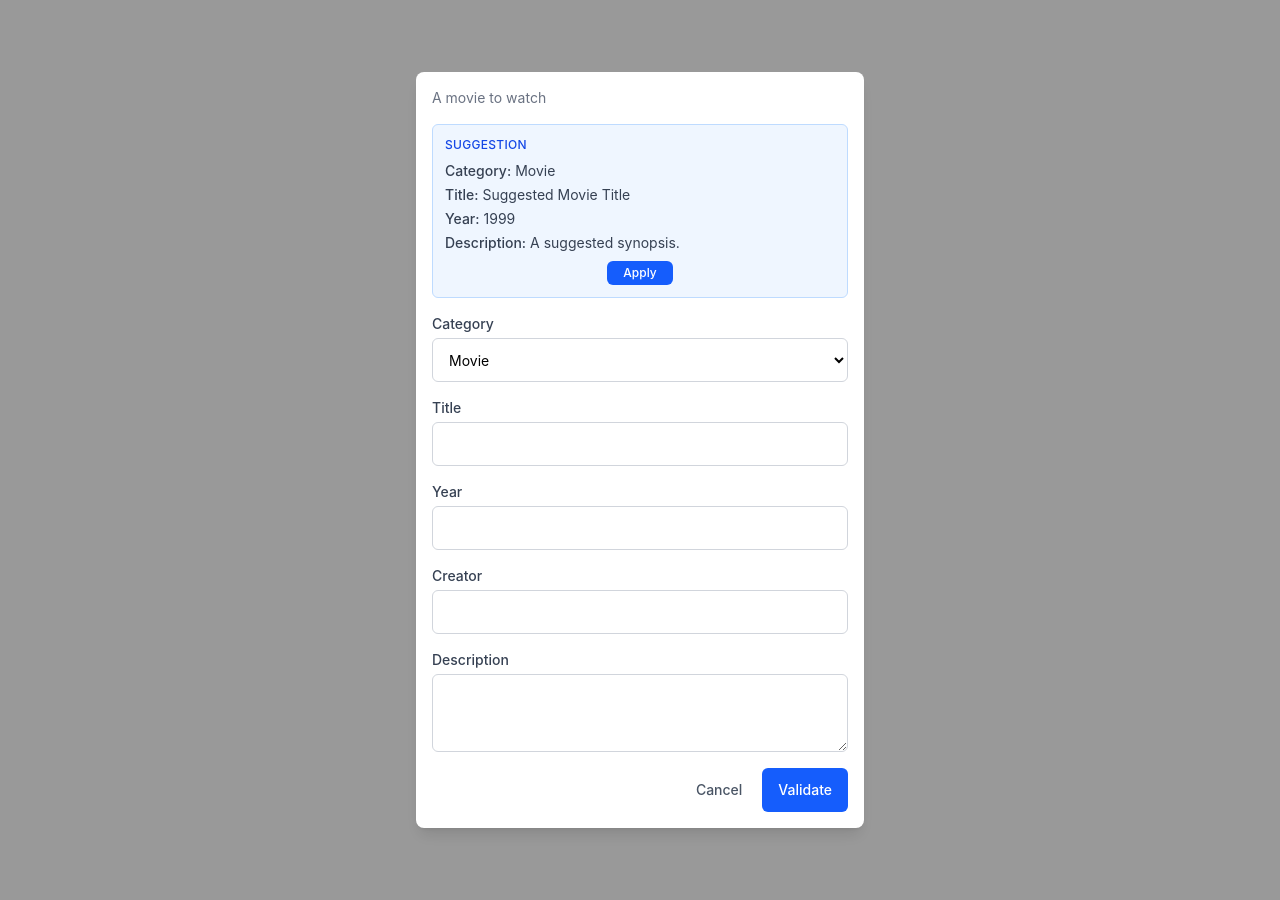
it: RefineMetadataModal › shows a suggestion panel and applies only its non-null fields on demand
The image size is (1280, 900).
Expected: the text "Suggested Movie Title" is shown, [482,185,630,205]
In the field labelled "Creator": coordinates (640, 612) [432,590,848,634], type "A manually typed creator"
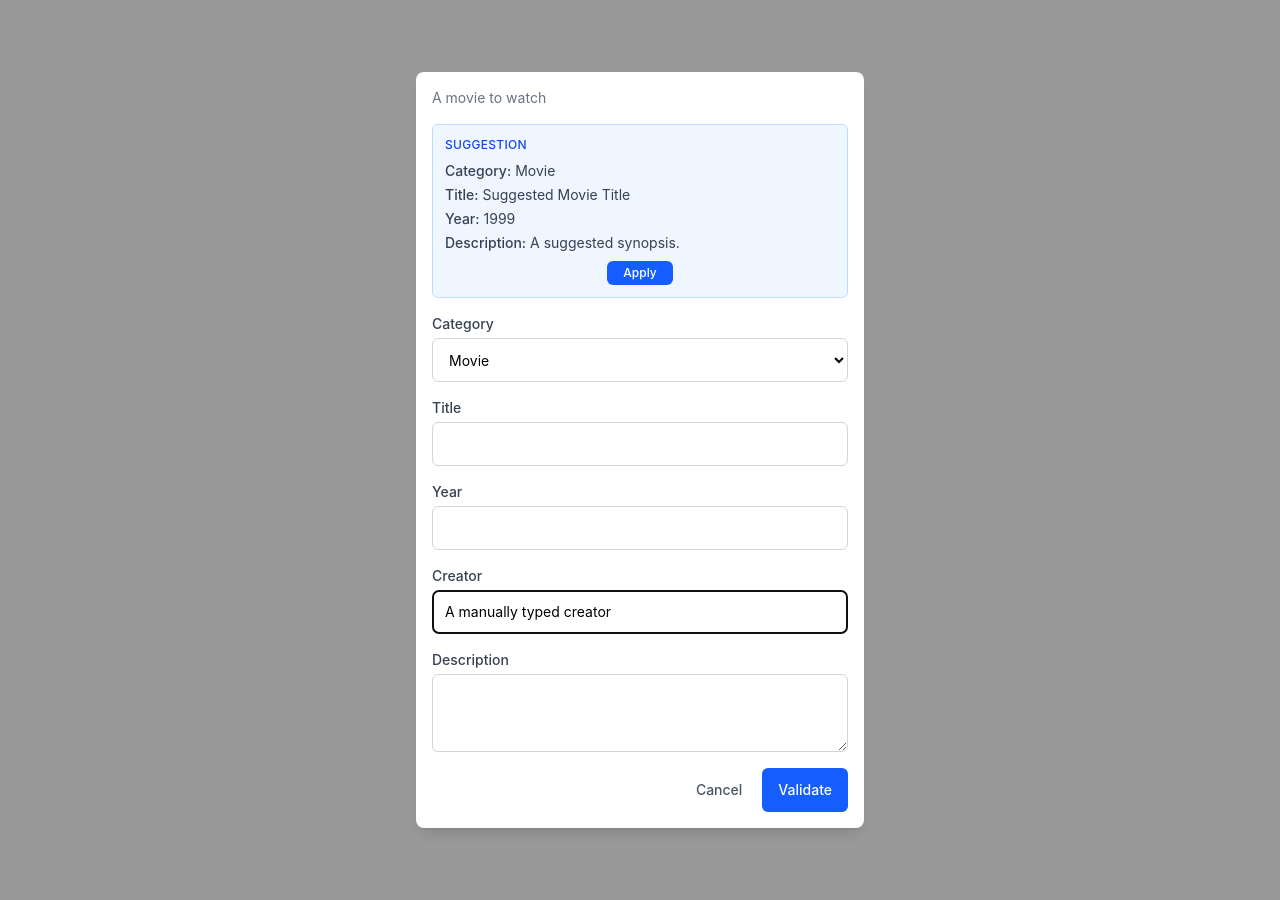
Click the button "Apply": coordinates (640, 273) [607,261,673,285]
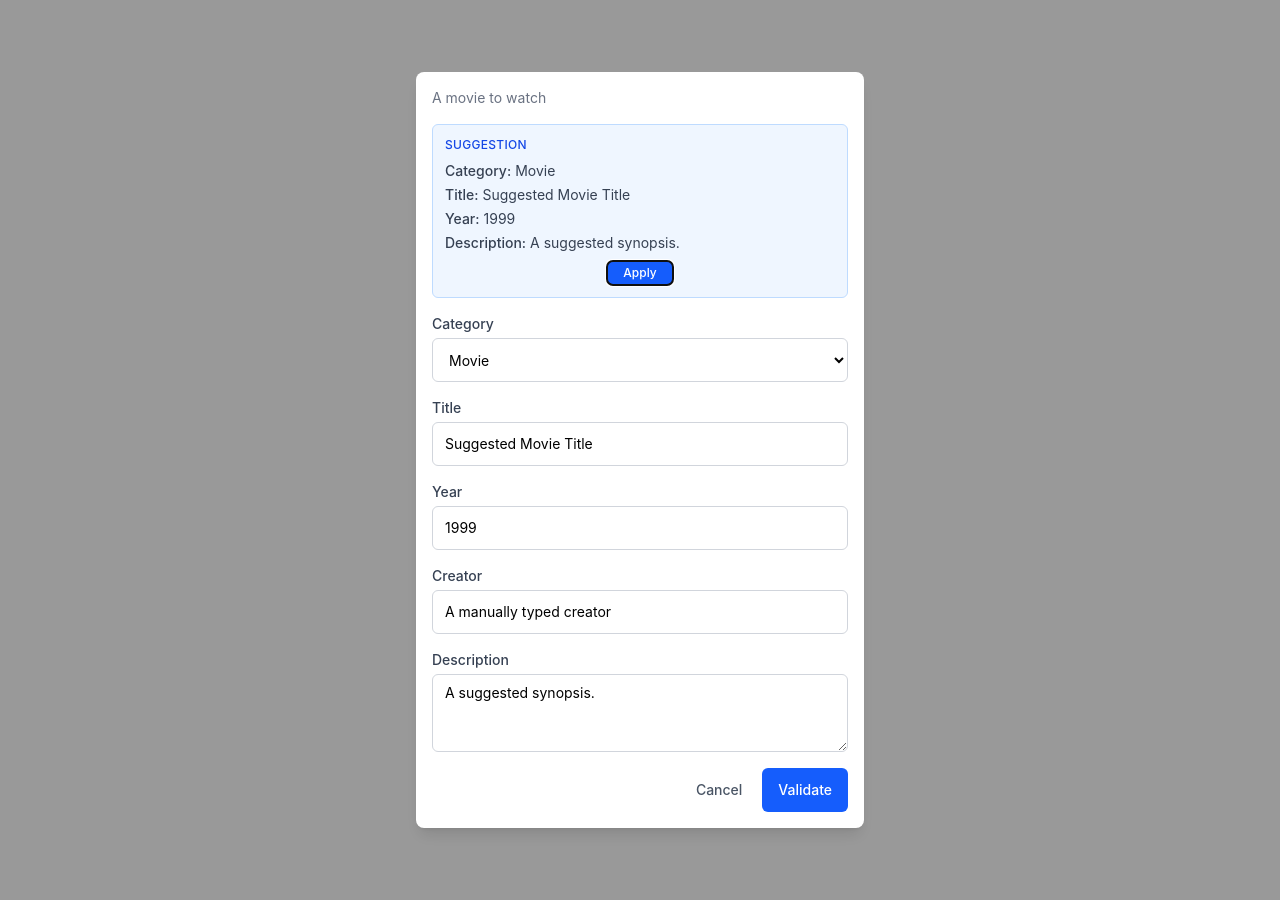
Expected: the dropdown labelled "Category" shows "Movie", [432,338,848,382]
Result: the field labelled "Title" holds "Suggested Movie Title" at [432,422,848,466]
Result: the number field labelled "Year" holds "1999" at [432,506,848,550]
